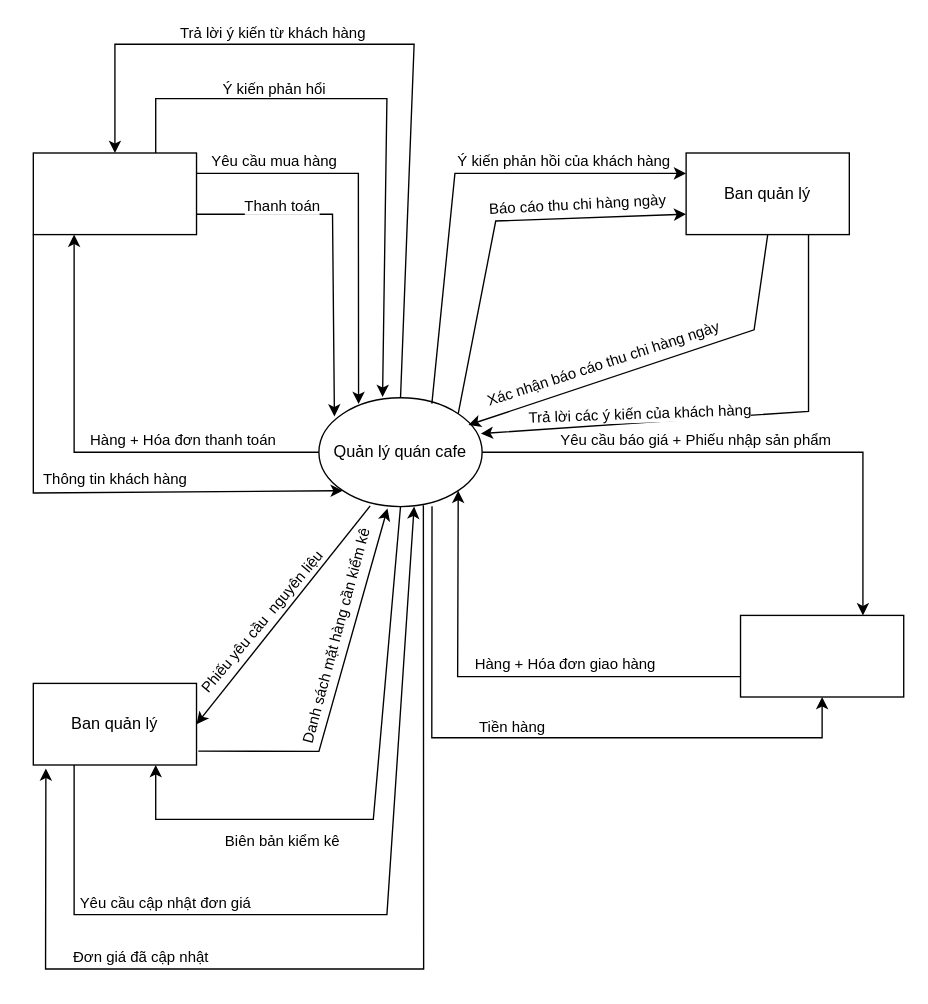
This 928x1004 diagram has some shape labels left out. The shapes that lost their labels are listed below. From the top down, each one's centre as x and y in pixels, then its label:
At point 114,193: "Khách hàng".
At point 821,655: "Nhà cung cấp".
